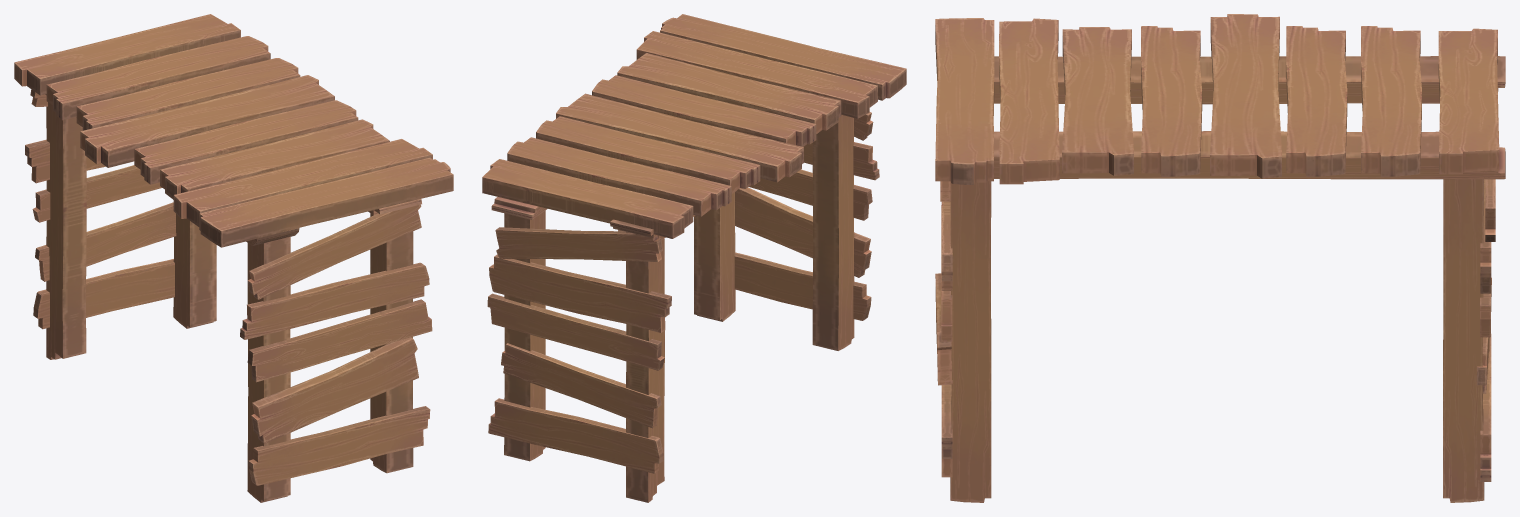
File: Pfb_Shed.fbx
The picture shows the model from 3 angles, left to right: view 1: azimuth 30°, elevation 25°; view 2: azimuth 150°, elevation 25°; view 3: azimuth 270°, elevation 25°; orthographic projection. The views are drawn at different scales.
Parts seen in each view (by area): view 1: Woodboard Variant; view 2: Woodboard Variant; view 3: Woodboard Variant.
Part boxes in pixels (x1,y1,x2,y2): Woodboard Variant: [14, 14, 453, 502]; Woodboard Variant: [482, 14, 906, 502]; Woodboard Variant: [935, 14, 1505, 502].
Size of the model in its own units: 2.54 by 2.95 by 4.07.
Materials: 1 (1 with a texture image).
